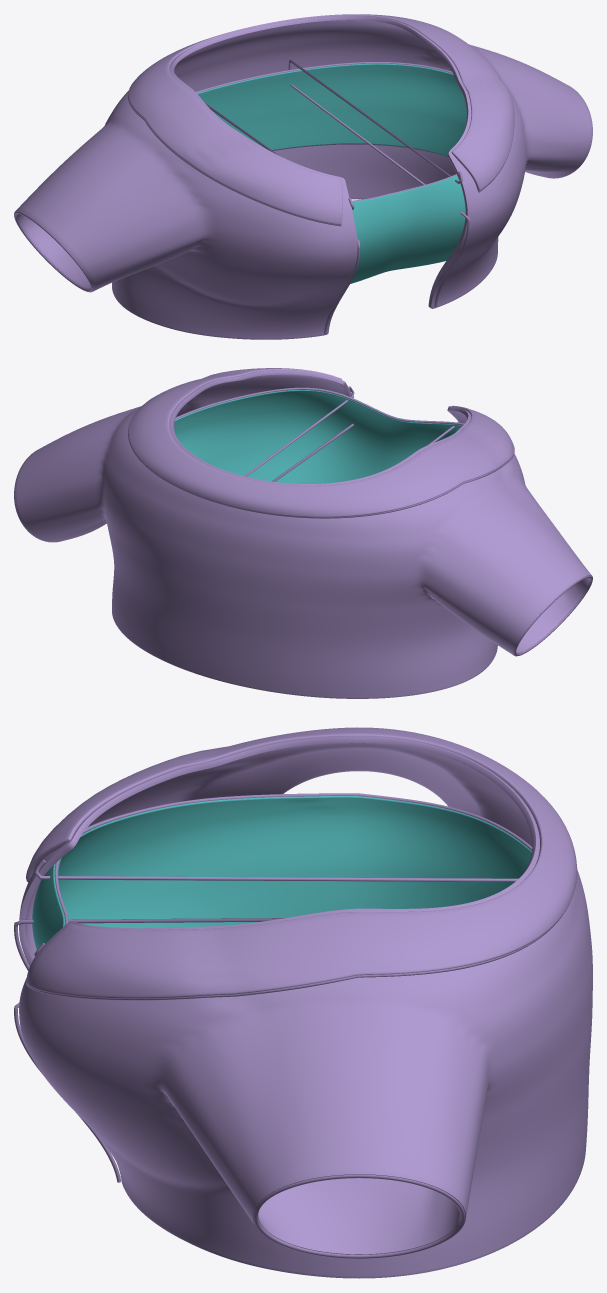
Rendered from Feminine-open-top.glb.
3 renders of one model, top to bottom at view 1: azimuth 30°, elevation 25°; view 2: azimuth 150°, elevation 25°; view 3: azimuth 270°, elevation 25°, orthographic. The views are drawn at different scales.
Visible parts, largest first — view 1: Clothing / open, Clothing / Bandeau underlayer, Open shirt / continuous falling collar, Open shirt / placket 1 export, Bandeau underlayer / bound edge.001 export, Open shirt / placket -1 export, Sleeve / soft cuff -1 export, Collar / folded edge export; view 2: Clothing / open, Open shirt / continuous falling collar, Clothing / Bandeau underlayer, Bandeau underlayer / bound edge.001 export, Collar / folded edge export, Open shirt / placket 1 export, Sleeve / soft cuff -1 export; view 3: Clothing / open, Clothing / Bandeau underlayer, Open shirt / continuous falling collar, Open shirt / placket -1 export, Sleeve / soft cuff 1 export, Bandeau underlayer / bound edge.001 export, Collar / folded edge export.
Boxes of the visible parts, box(x1,y1,x2,y2) form: Clothing / open: box(14, 16, 592, 339); Clothing / Bandeau underlayer: box(197, 63, 466, 283); Open shirt / continuous falling collar: box(128, 14, 514, 225); Open shirt / placket 1 export: box(288, 59, 469, 307); Bandeau underlayer / bound edge.001 export: box(196, 62, 456, 201); Open shirt / placket -1 export: box(204, 102, 360, 334); Sleeve / soft cuff -1 export: box(14, 211, 92, 292); Collar / folded edge export: box(128, 94, 502, 226); Clothing / open: box(14, 370, 592, 698); Open shirt / continuous falling collar: box(128, 368, 514, 517); Clothing / Bandeau underlayer: box(174, 387, 463, 483); Bandeau underlayer / bound edge.001 export: box(175, 387, 464, 425); Collar / folded edge export: box(128, 430, 513, 518); Open shirt / placket 1 export: box(244, 386, 354, 481); Sleeve / soft cuff -1 export: box(513, 575, 592, 655); Clothing / open: box(19, 736, 592, 1278); Clothing / Bandeau underlayer: box(32, 796, 531, 949); Open shirt / continuous falling collar: box(26, 727, 577, 998); Open shirt / placket -1 export: box(14, 859, 518, 970); Sleeve / soft cuff 1 export: box(253, 1174, 465, 1258); Bandeau underlayer / bound edge.001 export: box(54, 793, 532, 925); Collar / folded edge export: box(26, 879, 561, 1000).
Size of the model in its own units: 0.9346 by 0.3421 by 0.5582.
